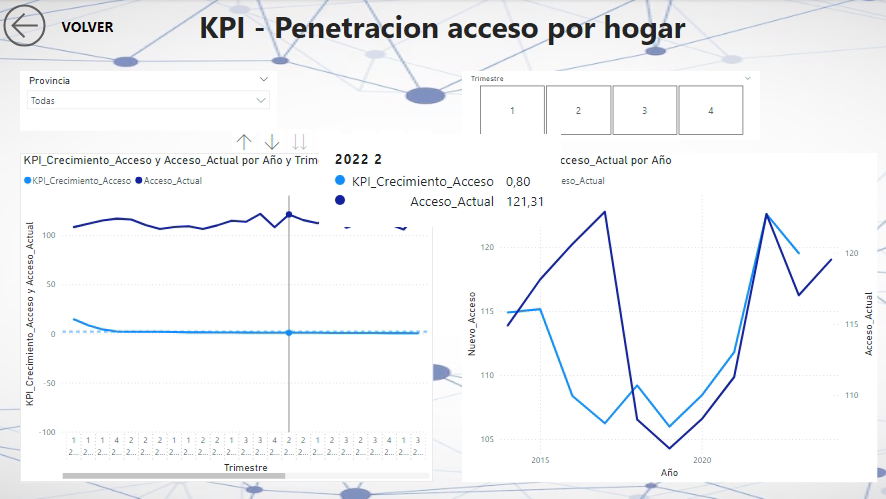

Layout of this report page (visuals, bound fields, positions):
{"tool":"powerbi","page":{"name":"KPI_Penetracion","canvas":[1280,720],"ordinal":5},"visuals":[{"type":"lineChart","fields":{"Category":["Penetracion-hogares.Trimestre"],"Y":["Penetracion-hogares.KPI_Crecimiento_Acceso"]},"box":[31.7,221.8,512.6,138.2],"z":0},{"type":"slicer","fields":{"Values":["Penetracion-hogares.Provincia"]},"box":[142.6,83.5,370.1,86.4],"z":1000},{"type":"slicer","fields":{"Values":["Penetracion-hogares.Trimestre"]},"box":[702.7,76.3,429.1,99.4],"z":2000},{"type":"lineChart","fields":{"Y":["Penetracion-hogares.KPI_Crecimiento_Acceso","Penetracion-hogares.Nuevo_Acceso"],"Category":["Penetracion-hogares.Año"],"Y2":["Penetracion-hogares.Acceso_Actual"]},"box":[748.8,221.8,517,289.4],"z":3000},{"type":"textbox","box":[260.6,5.8,757.4,69.1],"z":4000},{"type":"actionButton","box":[0,0,169.9,76.3],"z":5000},{"type":"lineChart","fields":{"Category":["Penetracion-hogares.Año"],"Y":["Penetracion-hogares.KPI_Crecimiento_Acceso"]},"box":[0,203,1265.8,493.9],"z":6000}]}

Visuals, with their boxes on the page's 1280x720 design canvas (x1, y1, x2, y2). These are canvas units, not pixel positions in the 886x499 screenshot, which may show the page scaled, cropped or inside an application window:
lineChart - Penetracion-hogares.Trimestre x Penetracion-hogares.KPI_Crecimiento_Acceso: rect(32, 222, 544, 360)
slicer - Penetracion-hogares.Provincia: rect(143, 84, 513, 170)
slicer - Penetracion-hogares.Trimestre: rect(703, 76, 1132, 176)
lineChart - Penetracion-hogares.KPI_Crecimiento_Acceso x Penetracion-hogares.Nuevo_Acceso: rect(749, 222, 1266, 511)
textbox: rect(261, 6, 1018, 75)
actionButton: rect(0, 0, 170, 76)
lineChart - Penetracion-hogares.Año x Penetracion-hogares.KPI_Crecimiento_Acceso: rect(0, 203, 1266, 697)
